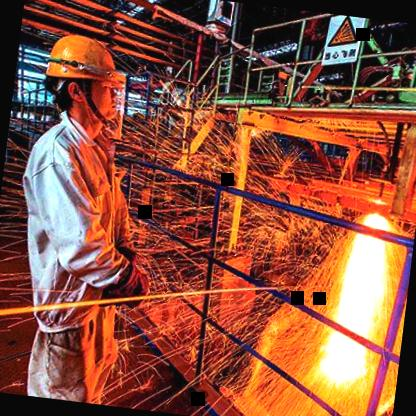helmet: (33, 26, 130, 125)
